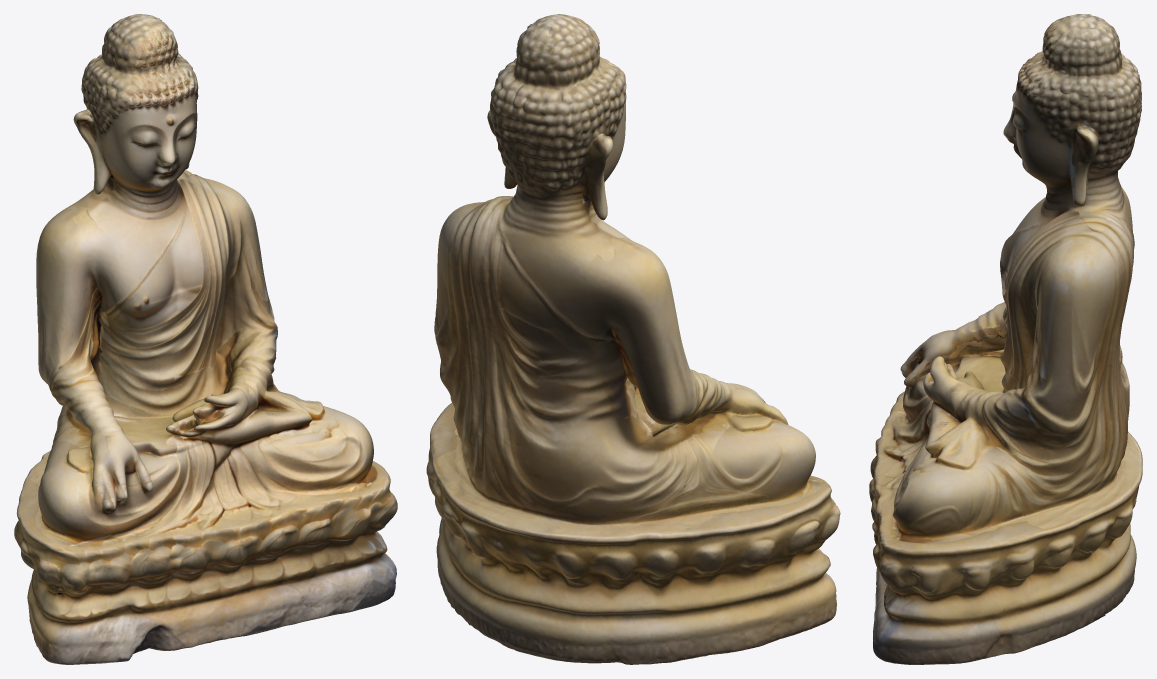
Rendered from buddha.glb.
3 views of the same model, side by side, from view 1: azimuth 30°, elevation 25°; view 2: azimuth 150°, elevation 25°; view 3: azimuth 270°, elevation 25° (orthographic). The views are drawn at different scales.
Bounding box in the file's own units: 1.32 × 2 × 0.8715.
Materials: 1 (1 with a texture image).
